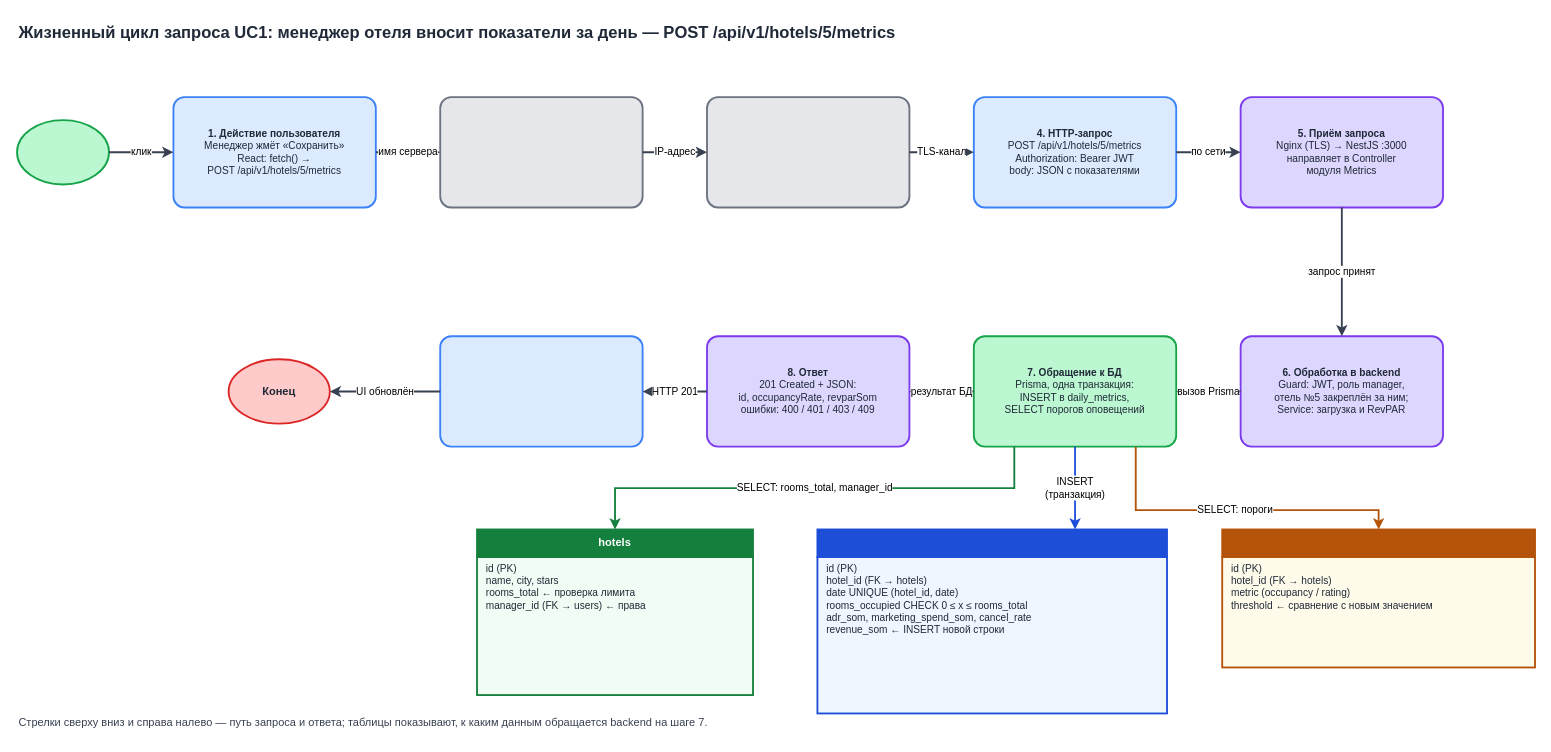
The diagram is 1551 pixels wide and 752 high, and some of its shapes have lost their labels. The box of each missing label's shape, as (x1, y1, x2, y2) in pixels:
2. DNS hotelpulse.example → IP-адрес сервера (кэш браузера / ОС): (439, 96, 643, 208)
3. TCP + TLS рукопожатие, сертификат; далее данные идут в зашифрованном виде: (706, 96, 910, 208)
9. Обновление интерфейса зелёное уведомление, KPI-карточки и график обновлены: (439, 335, 643, 447)
alert_rules: (1221, 528, 1535, 558)
daily_metrics: (816, 528, 1167, 558)
Начало (UC1): (16, 119, 109, 185)
